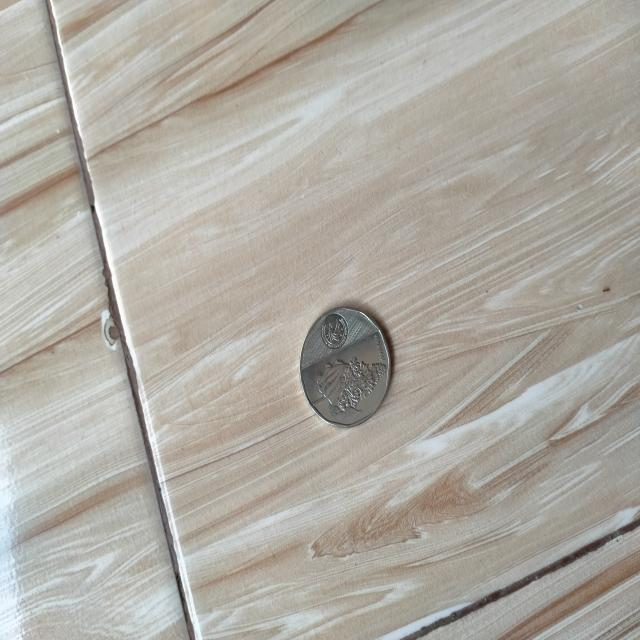10_New_Back: (309, 348, 393, 414)
